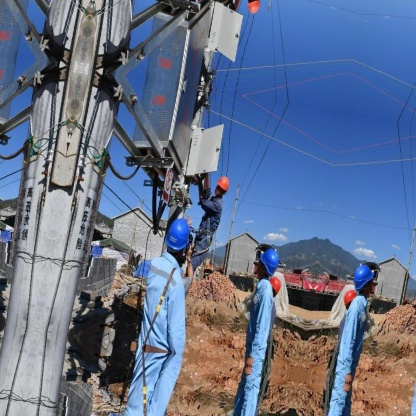blue: (160, 213, 195, 255), (254, 245, 283, 279)
